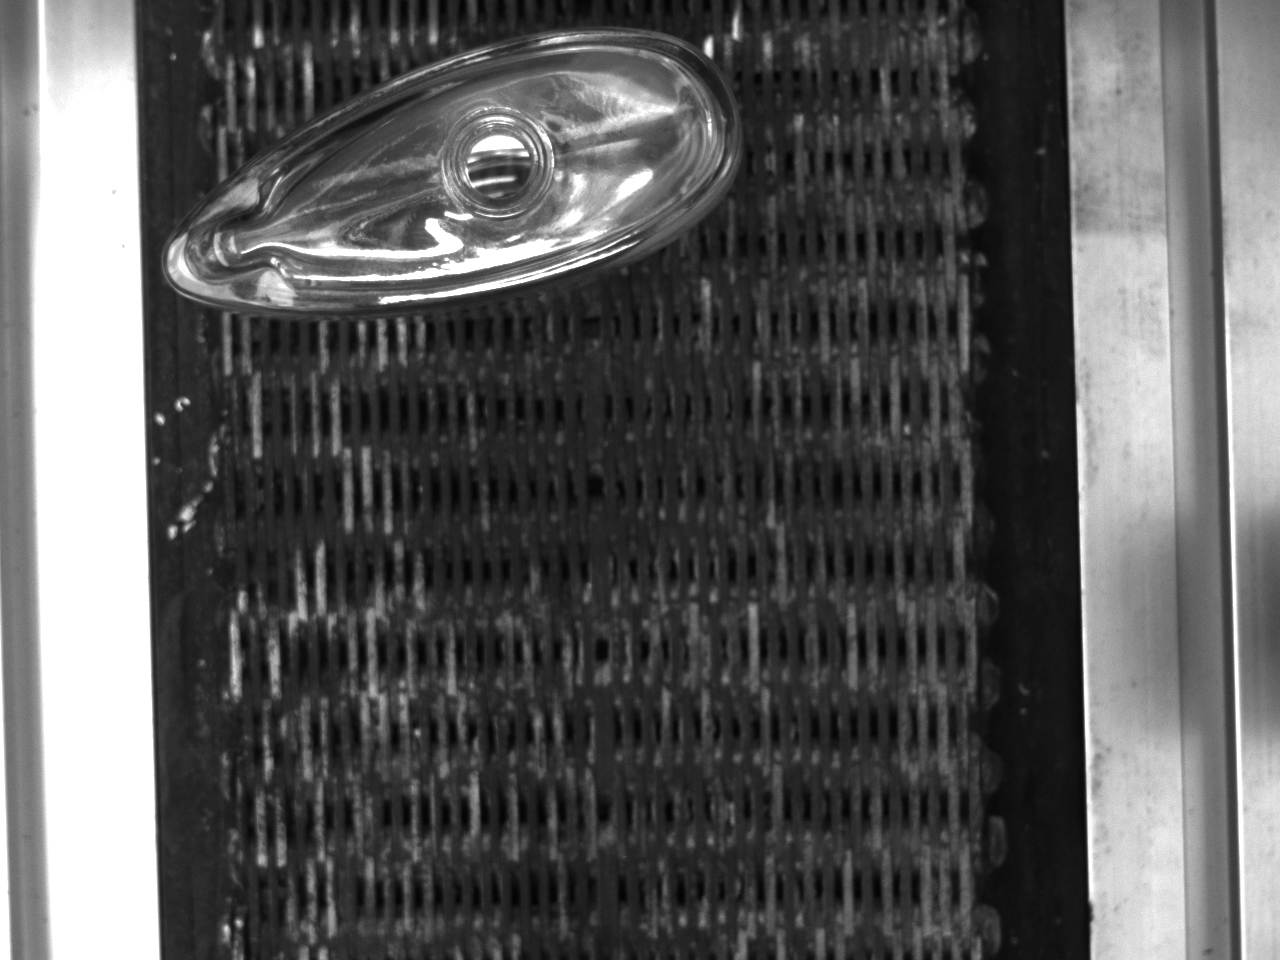bottleneck: (445, 107, 556, 217)
